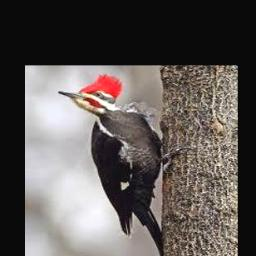Woodpecker: (59, 75, 190, 256)
